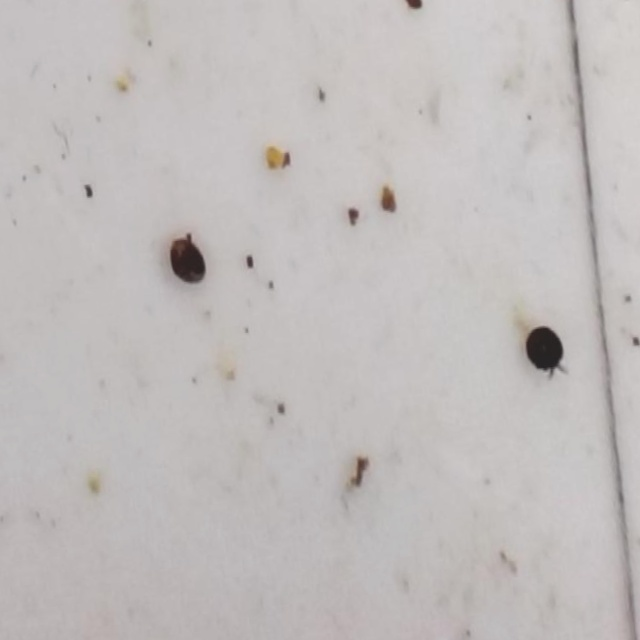varroa: (522, 320, 569, 377), (168, 234, 209, 286)
